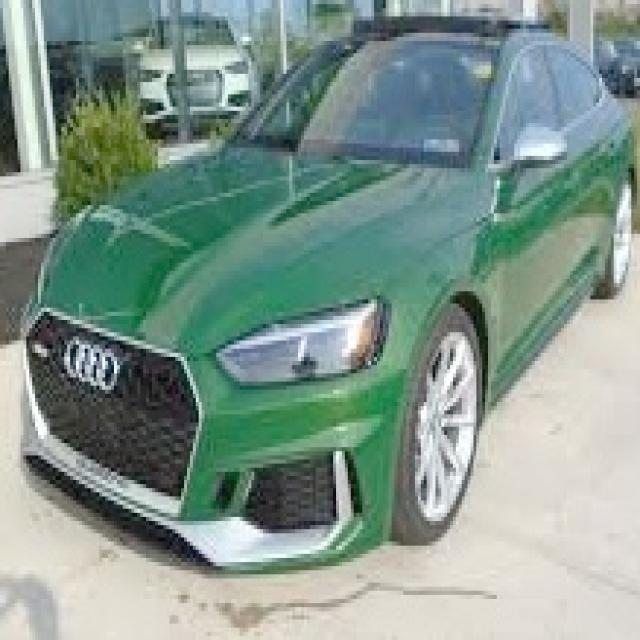green: (19, 21, 634, 576)
